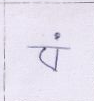anusvara: (55, 33, 60, 39)
